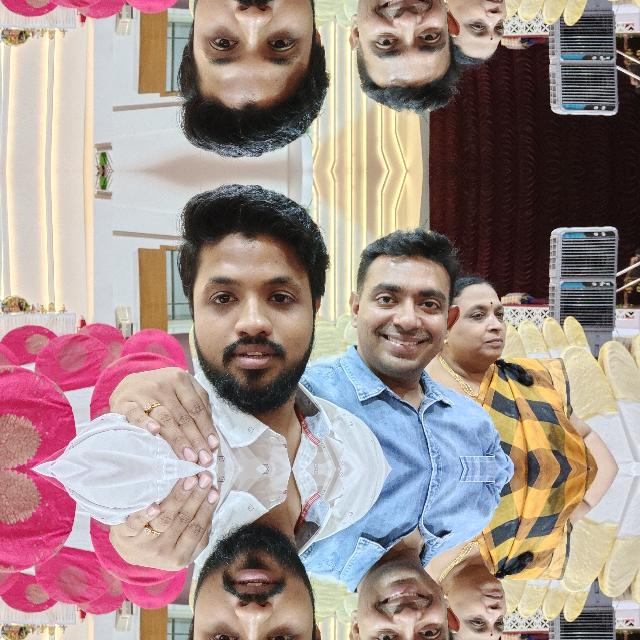person: (160, 170, 338, 420), (160, 0, 337, 170), (350, 200, 470, 408), (160, 516, 337, 640), (349, 0, 470, 139), (349, 528, 470, 640)
